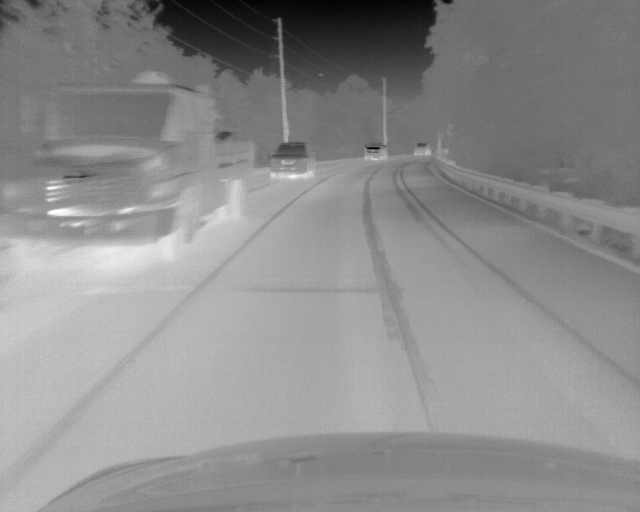car: (1, 83, 257, 254), (268, 141, 316, 181), (363, 143, 388, 164), (413, 141, 432, 158)
